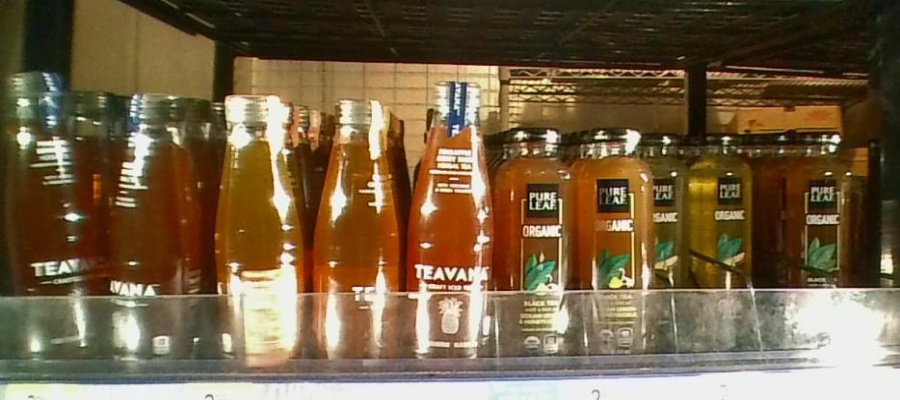bottle: (97, 81, 200, 360), (308, 89, 407, 362), (2, 65, 95, 354), (208, 85, 304, 363), (410, 84, 497, 360), (498, 109, 579, 359), (582, 115, 653, 353), (787, 124, 852, 292), (688, 131, 755, 293), (656, 131, 685, 294)
